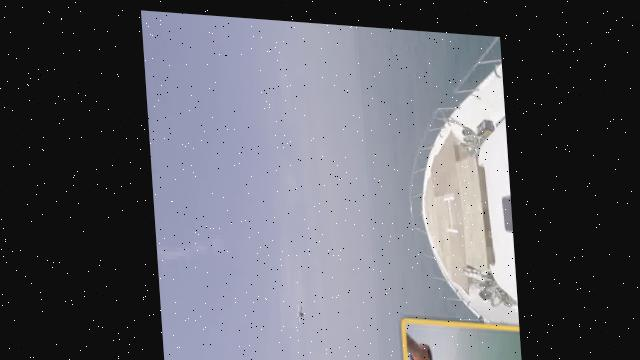drone: (284, 296, 305, 325), (204, 12, 230, 20)
